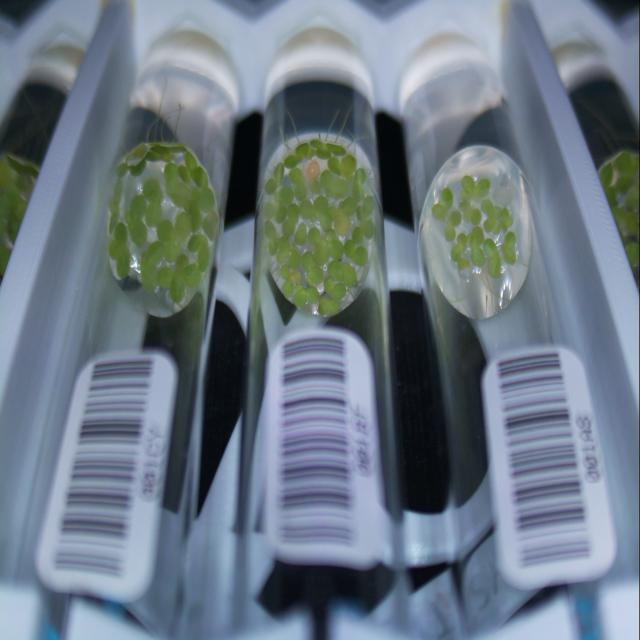Lemna-Gibba: (140, 240, 164, 292), (164, 162, 191, 207), (109, 222, 130, 279), (125, 195, 148, 247), (481, 200, 514, 235), (156, 218, 181, 262), (142, 178, 162, 227), (188, 233, 210, 271), (314, 195, 336, 232), (320, 170, 349, 198), (461, 175, 490, 202), (482, 238, 501, 279), (431, 187, 454, 220), (310, 138, 346, 158), (451, 233, 470, 270), (109, 178, 122, 231), (468, 227, 485, 267), (344, 240, 369, 267), (181, 262, 205, 289), (328, 155, 356, 178), (282, 203, 300, 237), (325, 230, 344, 260), (188, 193, 202, 233), (169, 270, 185, 304), (445, 210, 461, 242), (351, 168, 366, 202), (175, 212, 192, 242), (459, 202, 481, 225), (324, 277, 346, 300), (125, 143, 148, 165), (264, 202, 288, 223), (501, 232, 516, 264), (202, 210, 218, 240), (146, 142, 170, 162), (306, 162, 321, 193), (198, 185, 215, 212), (299, 198, 318, 222), (356, 195, 374, 220), (314, 238, 330, 265), (276, 235, 290, 264), (334, 210, 350, 235), (280, 264, 300, 284), (318, 297, 340, 315), (191, 167, 209, 188), (328, 260, 344, 282), (294, 284, 308, 309), (339, 197, 358, 215), (159, 264, 172, 289), (342, 264, 356, 287), (295, 142, 315, 158), (306, 265, 322, 285), (301, 250, 315, 272), (360, 218, 375, 238), (129, 158, 146, 175), (278, 185, 294, 203), (175, 254, 189, 274), (294, 223, 306, 245), (185, 153, 198, 173), (305, 287, 320, 304), (284, 153, 300, 168), (289, 167, 304, 183), (351, 225, 364, 243), (178, 165, 191, 183), (289, 250, 301, 269), (264, 177, 278, 193), (264, 220, 276, 238), (308, 227, 320, 245), (282, 280, 294, 297), (274, 162, 284, 182), (295, 182, 306, 200), (116, 162, 128, 178), (268, 238, 278, 255), (169, 143, 186, 153), (152, 250, 162, 264)
